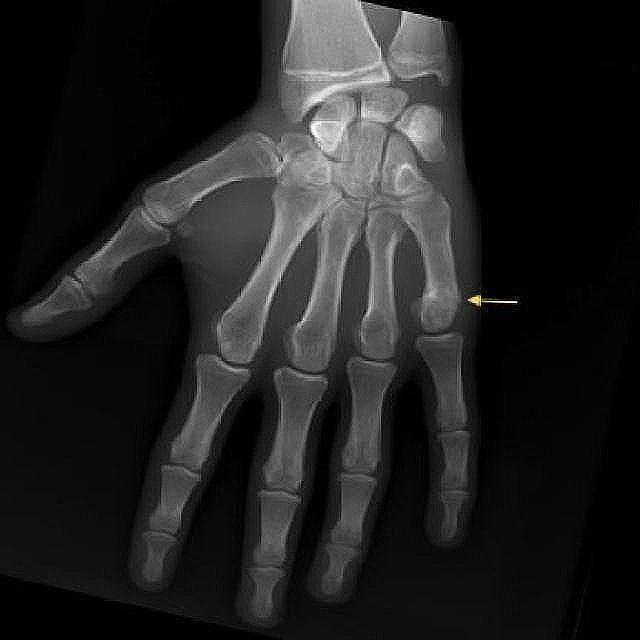bone: (416, 266, 466, 335)
